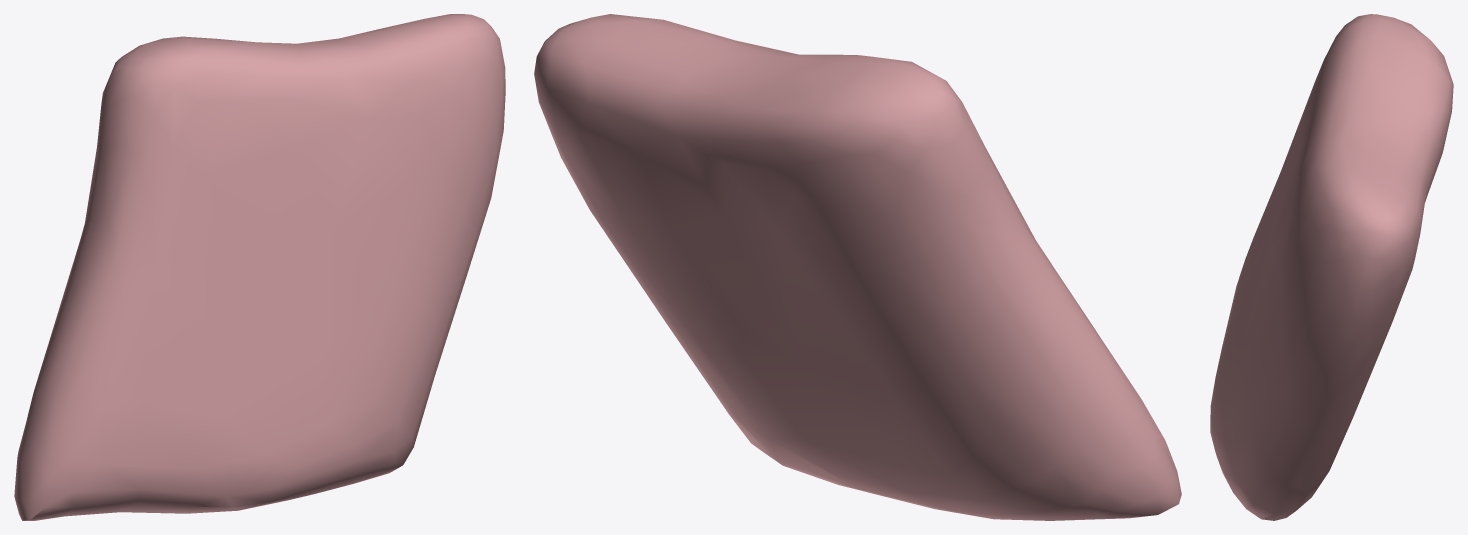
The model's file is fma275377_mm3368m.glb.
3 views of the same model, side by side, from view 1: azimuth 30°, elevation 25°; view 2: azimuth 150°, elevation 25°; view 3: azimuth 270°, elevation 25° (orthographic). The views are drawn at different scales.
Visible parts, largest first — view 1: FMA275377_MM3368M; view 2: FMA275377_MM3368M; view 3: FMA275377_MM3368M.
Part boxes in pixels (x1,y1,x2,y2): FMA275377_MM3368M: (14,14,505,520); FMA275377_MM3368M: (534,14,1181,520); FMA275377_MM3368M: (1210,14,1453,520).
Bounding box in the file's own units: 0.0127 × 0.00983 × 0.00517.
